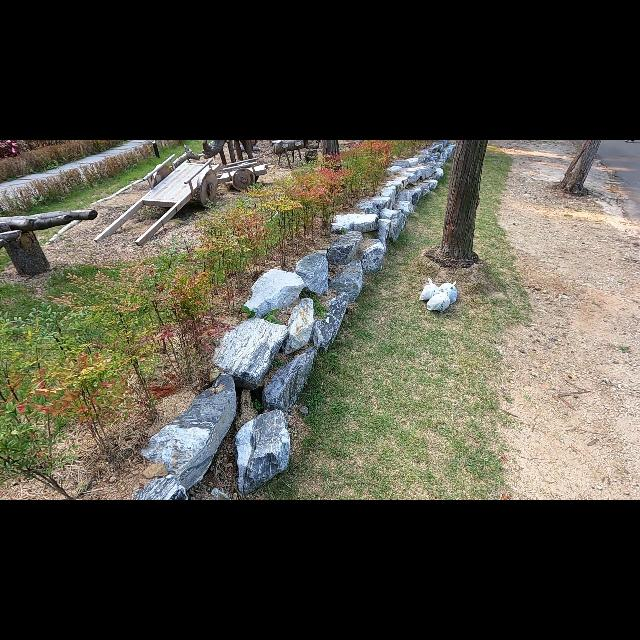trash: (427, 290, 451, 312), (436, 280, 458, 304), (419, 278, 441, 300)
